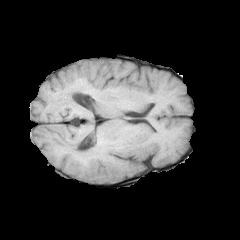glioma: (79, 143, 151, 183)
